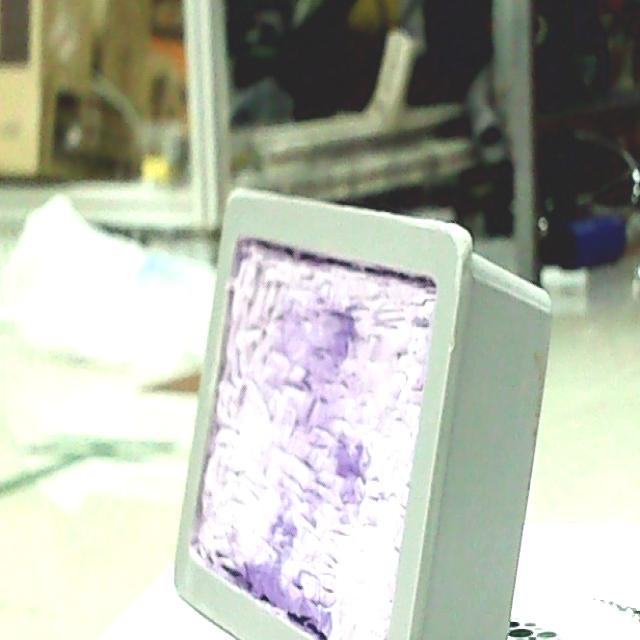block: (173, 188, 556, 640)
